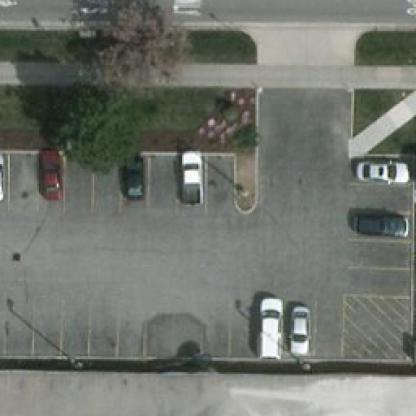car: (247, 294, 284, 358), (352, 152, 412, 184), (346, 208, 411, 234), (174, 150, 203, 206), (38, 146, 64, 202), (118, 144, 144, 198), (286, 299, 312, 348)
